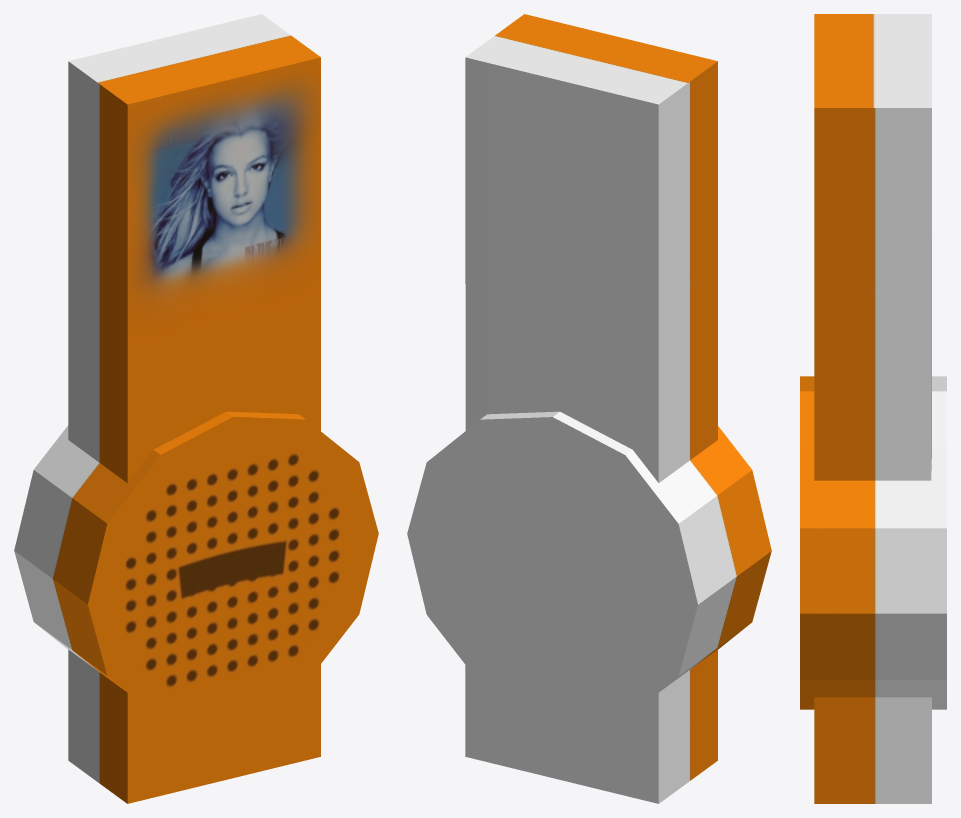
The model's file is Juguete_Naranja.fbx.
3 views of the same model, side by side, from view 1: azimuth 30°, elevation 25°; view 2: azimuth 150°, elevation 25°; view 3: azimuth 270°, elevation 25° (orthographic).
Visible parts, largest first — view 1: Juguete_Naranja; view 2: Juguete_Naranja; view 3: Juguete_Naranja.
Part boxes in pixels (x1,y1,x2,y2): Juguete_Naranja: (14, 14, 378, 803); Juguete_Naranja: (407, 14, 771, 803); Juguete_Naranja: (800, 14, 946, 803).
Size of the model in its own units: 11.74 by 26.97 by 5.15.
1 material, 1 textured.
